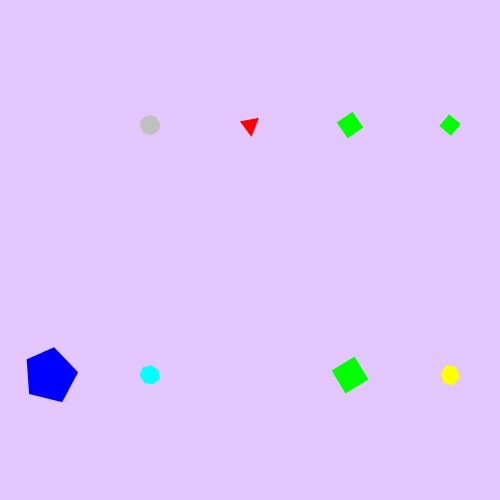decagon: (135, 111, 165, 139)
heptagon: (136, 361, 165, 389)
hexagon: (435, 362, 465, 388)
pentagon: (20, 345, 80, 405)
quadrilateral: (328, 353, 373, 398), (333, 108, 368, 143), (435, 110, 465, 140)
triangle: (237, 112, 263, 139)
